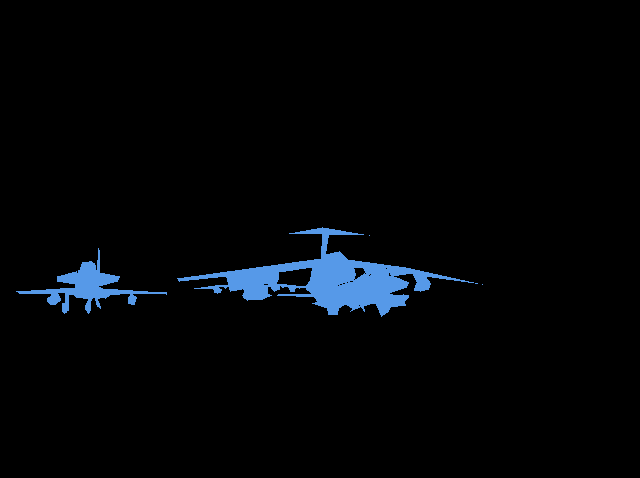Airplane: (177, 227, 482, 292), (16, 248, 167, 313), (277, 265, 408, 316), (194, 271, 305, 301)
